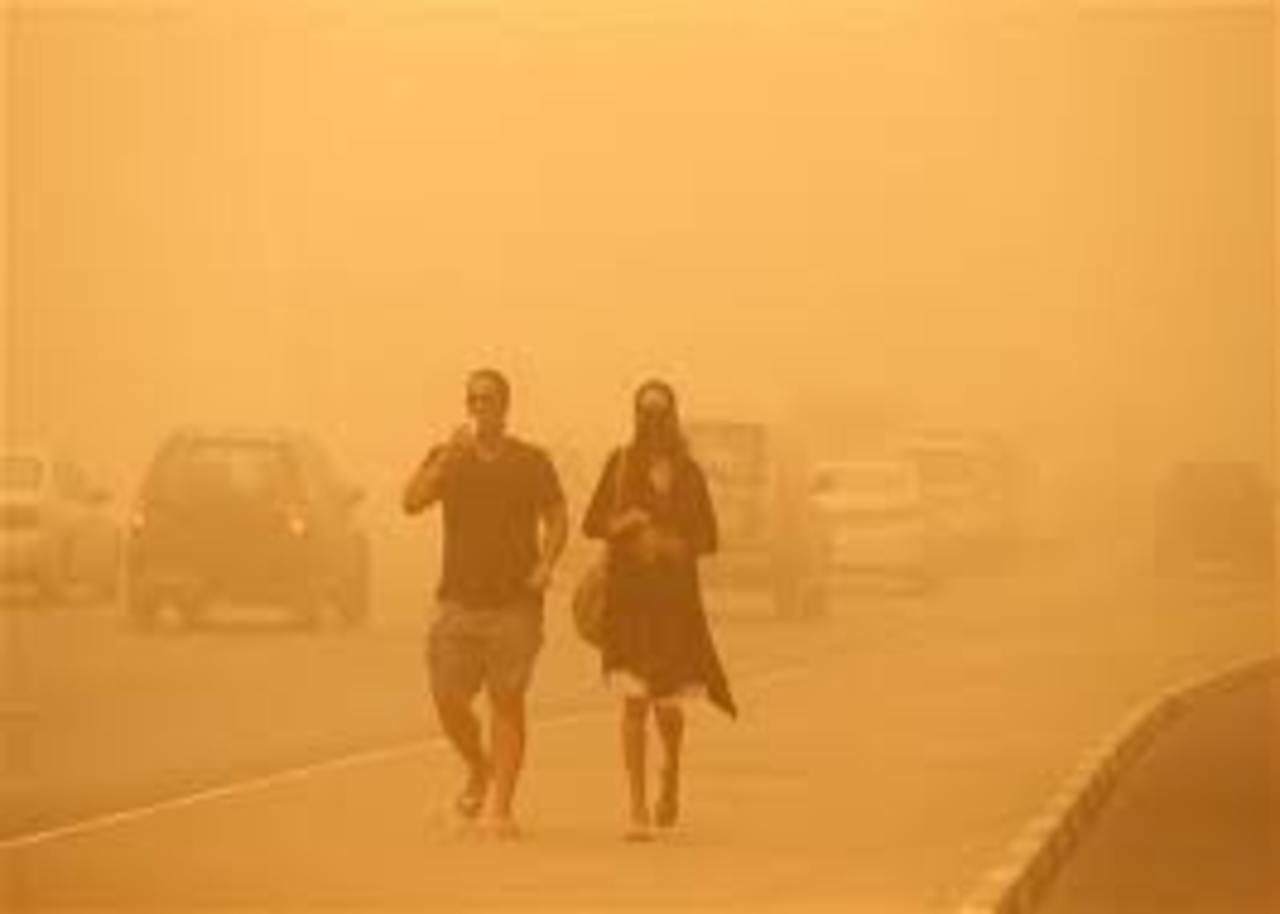car: (120, 426, 373, 627), (634, 412, 829, 616), (1, 438, 128, 611), (816, 455, 934, 591), (1147, 464, 1272, 580), (911, 446, 1004, 574)
person: (402, 371, 578, 831), (570, 389, 738, 828)
